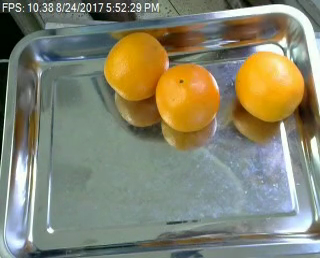Orange: (234, 50, 307, 122), (155, 61, 221, 133), (103, 30, 169, 101)
